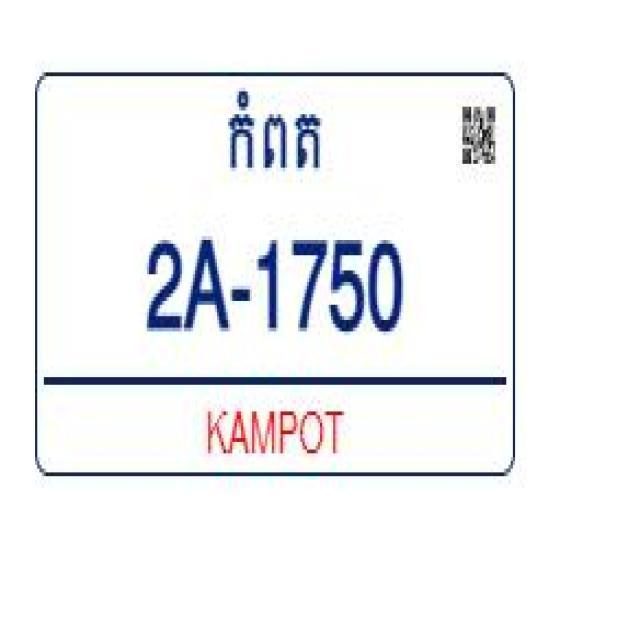Kampot: (226, 84, 326, 182)
